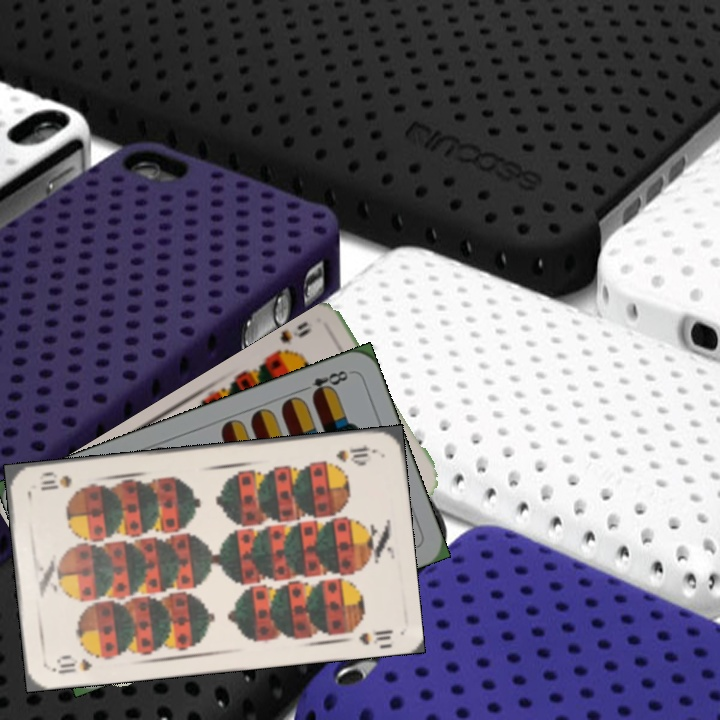E8: (296, 366, 351, 400)
S10: (332, 441, 378, 465), (49, 652, 94, 676)
S9: (271, 319, 314, 365)
